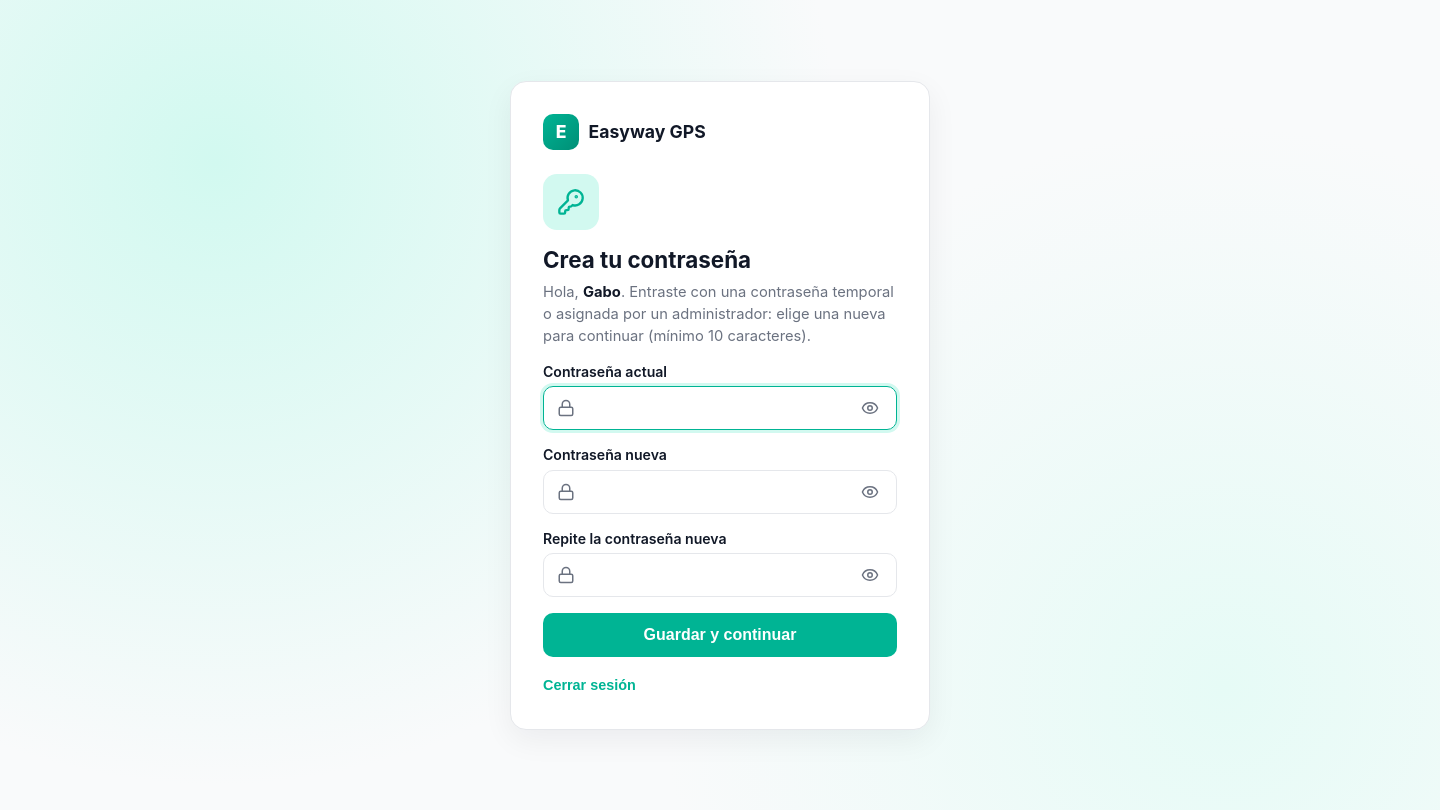
Test: contraseña pendiente de cambio: el portal no se muestra hasta cambiarla
The image size is (1440, 810).
expect the heading "Crea tu contraseña" is shown: met, box [543,246,751,272]
expect the text "Contenido del portal" is not shown: met
In the password field labelled "Contraseña actual": (716, 408) [584,387,848,429], type "k7Pm-x3Qa-Z9tR"
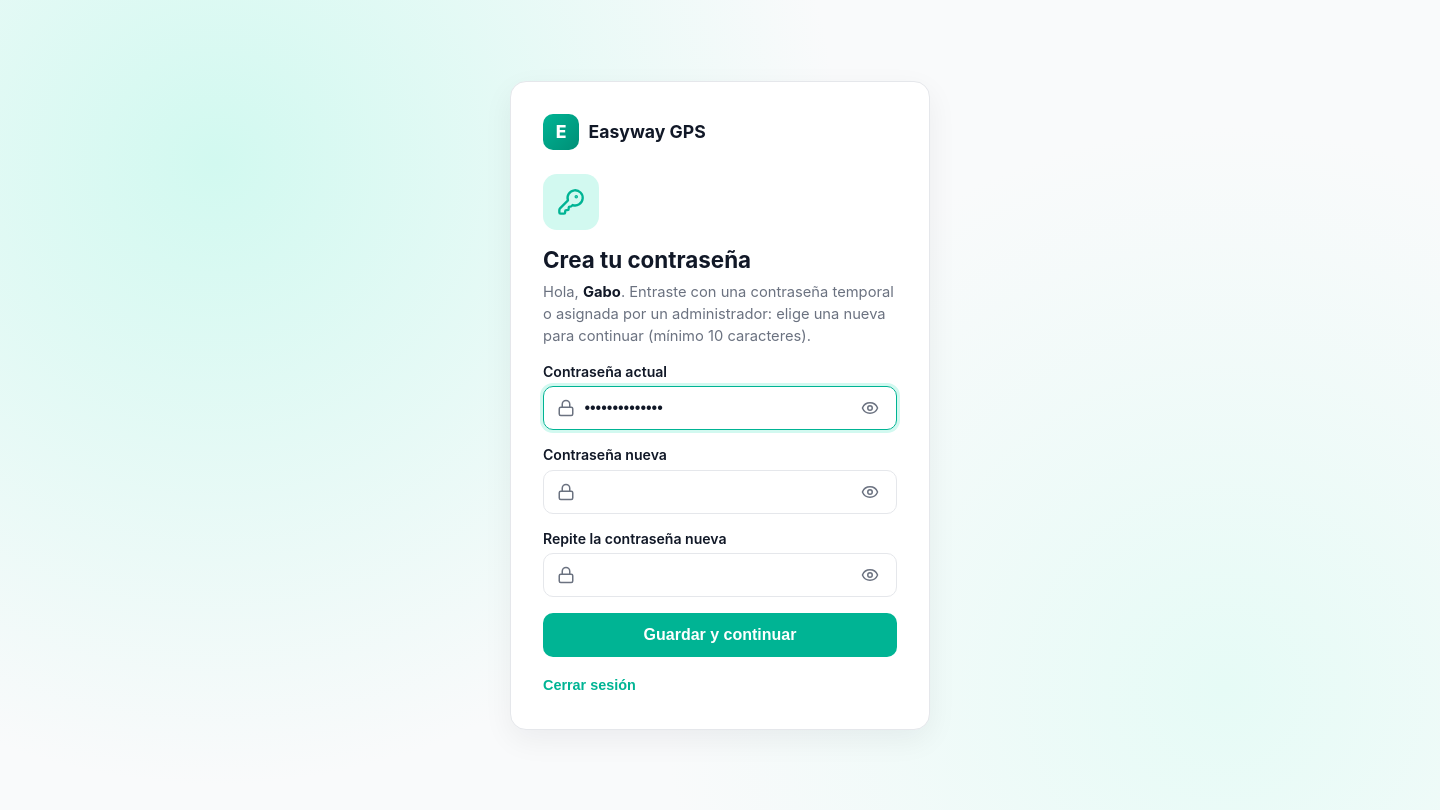
In the password field labelled "Contraseña nueva": (716, 492) [584,470,848,512], type "clave-nueva-456"
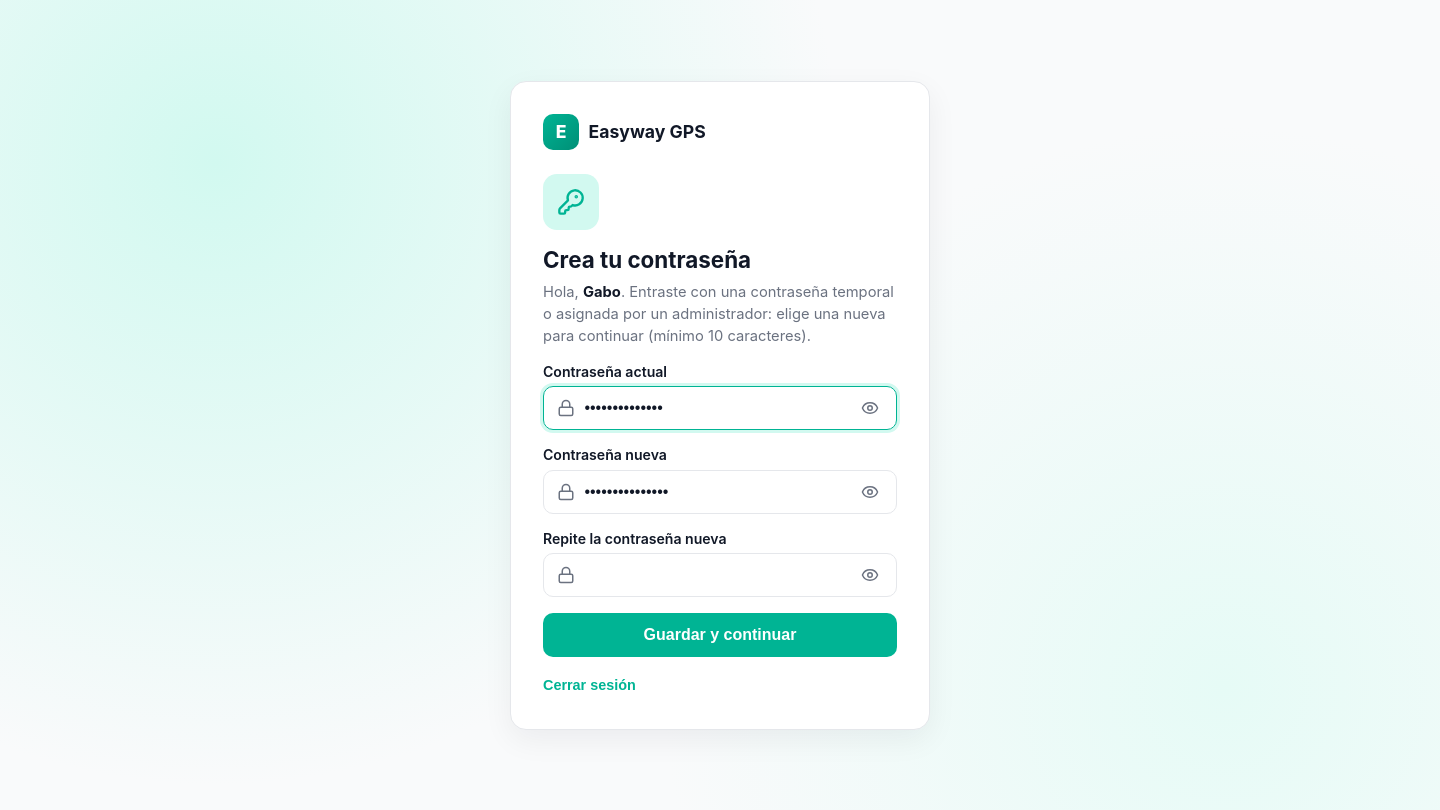
In the password field labelled "Repite la contraseña nueva": (716, 575) [584,554,848,596], type "clave-nueva-456"
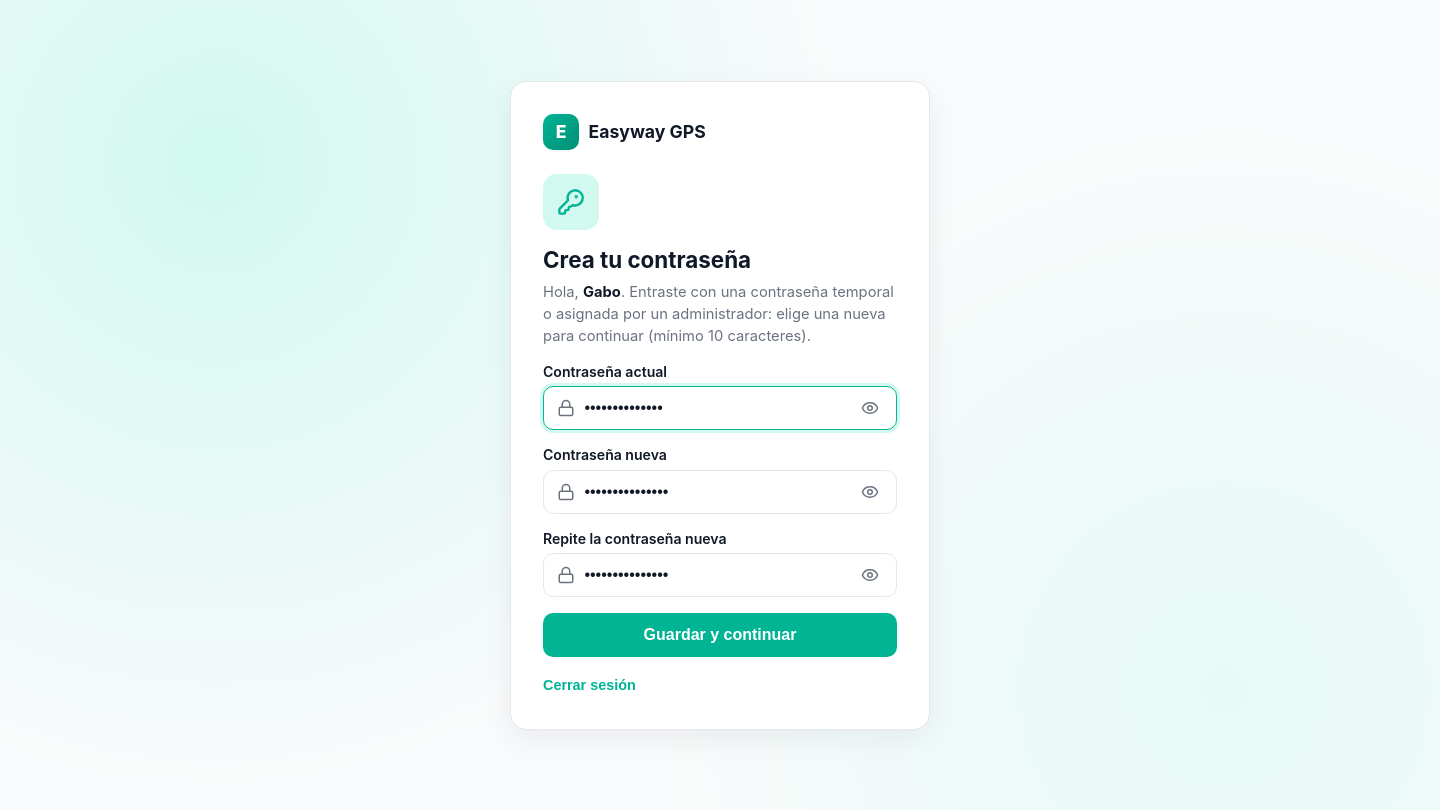
Click the button "Guardar y continuar": (720, 635) [543,613,897,656]
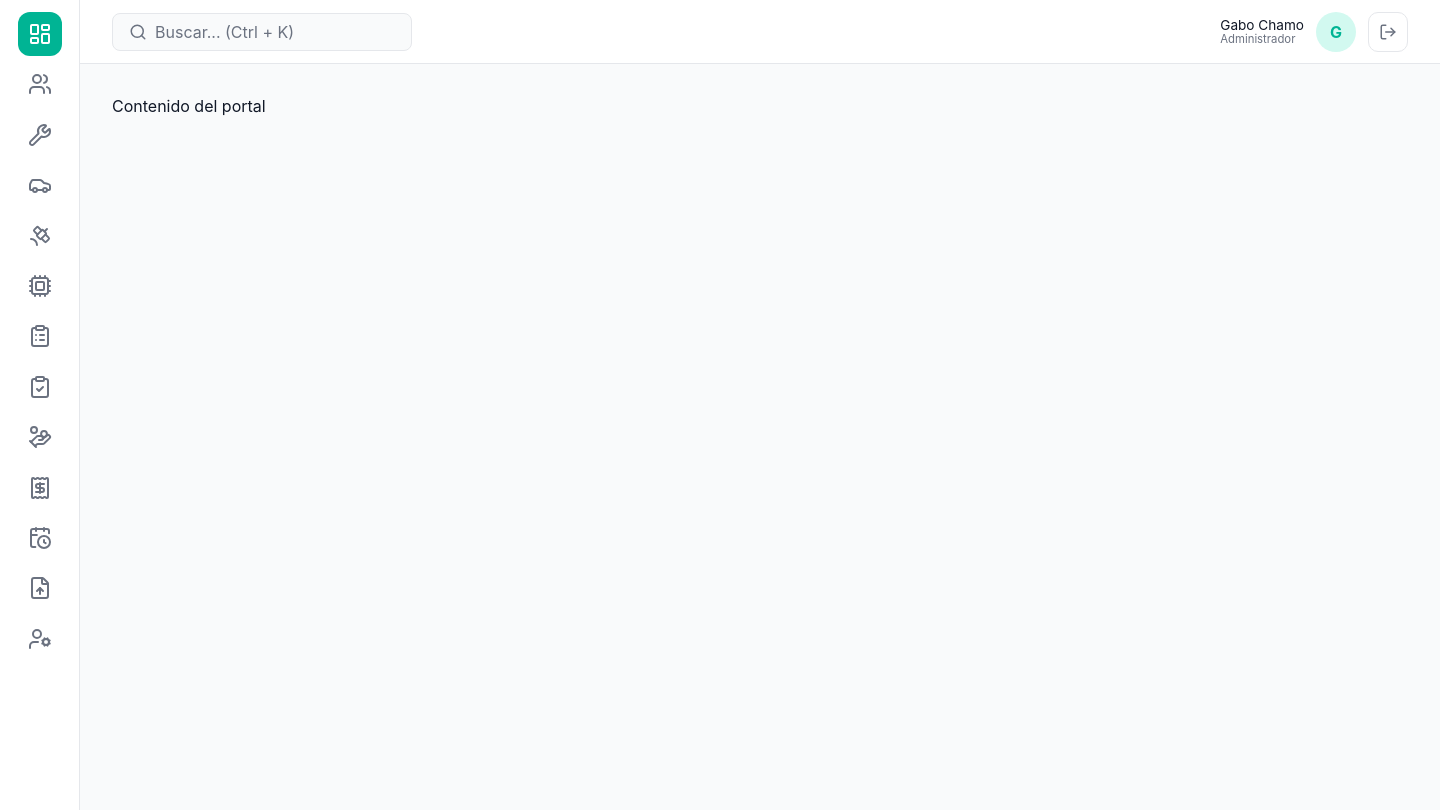
expect the text "Contenido del portal" is shown: met, box [112,96,266,116]
